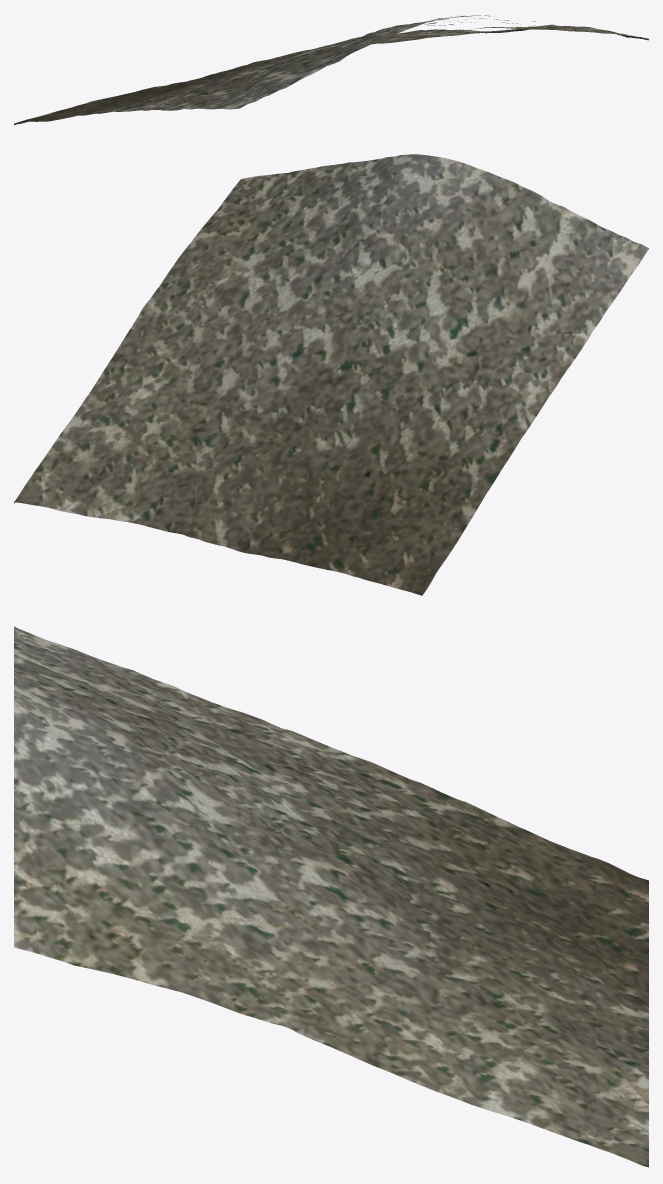
3 views of the same model, one above another, from view 1: azimuth 30°, elevation 25°; view 2: azimuth 150°, elevation 25°; view 3: azimuth 270°, elevation 25° (orthographic). The views are drawn at different scales.
Bounding box in the file's own units: 250 × 134 × 241.
Materials: 1 (1 with a texture image).
